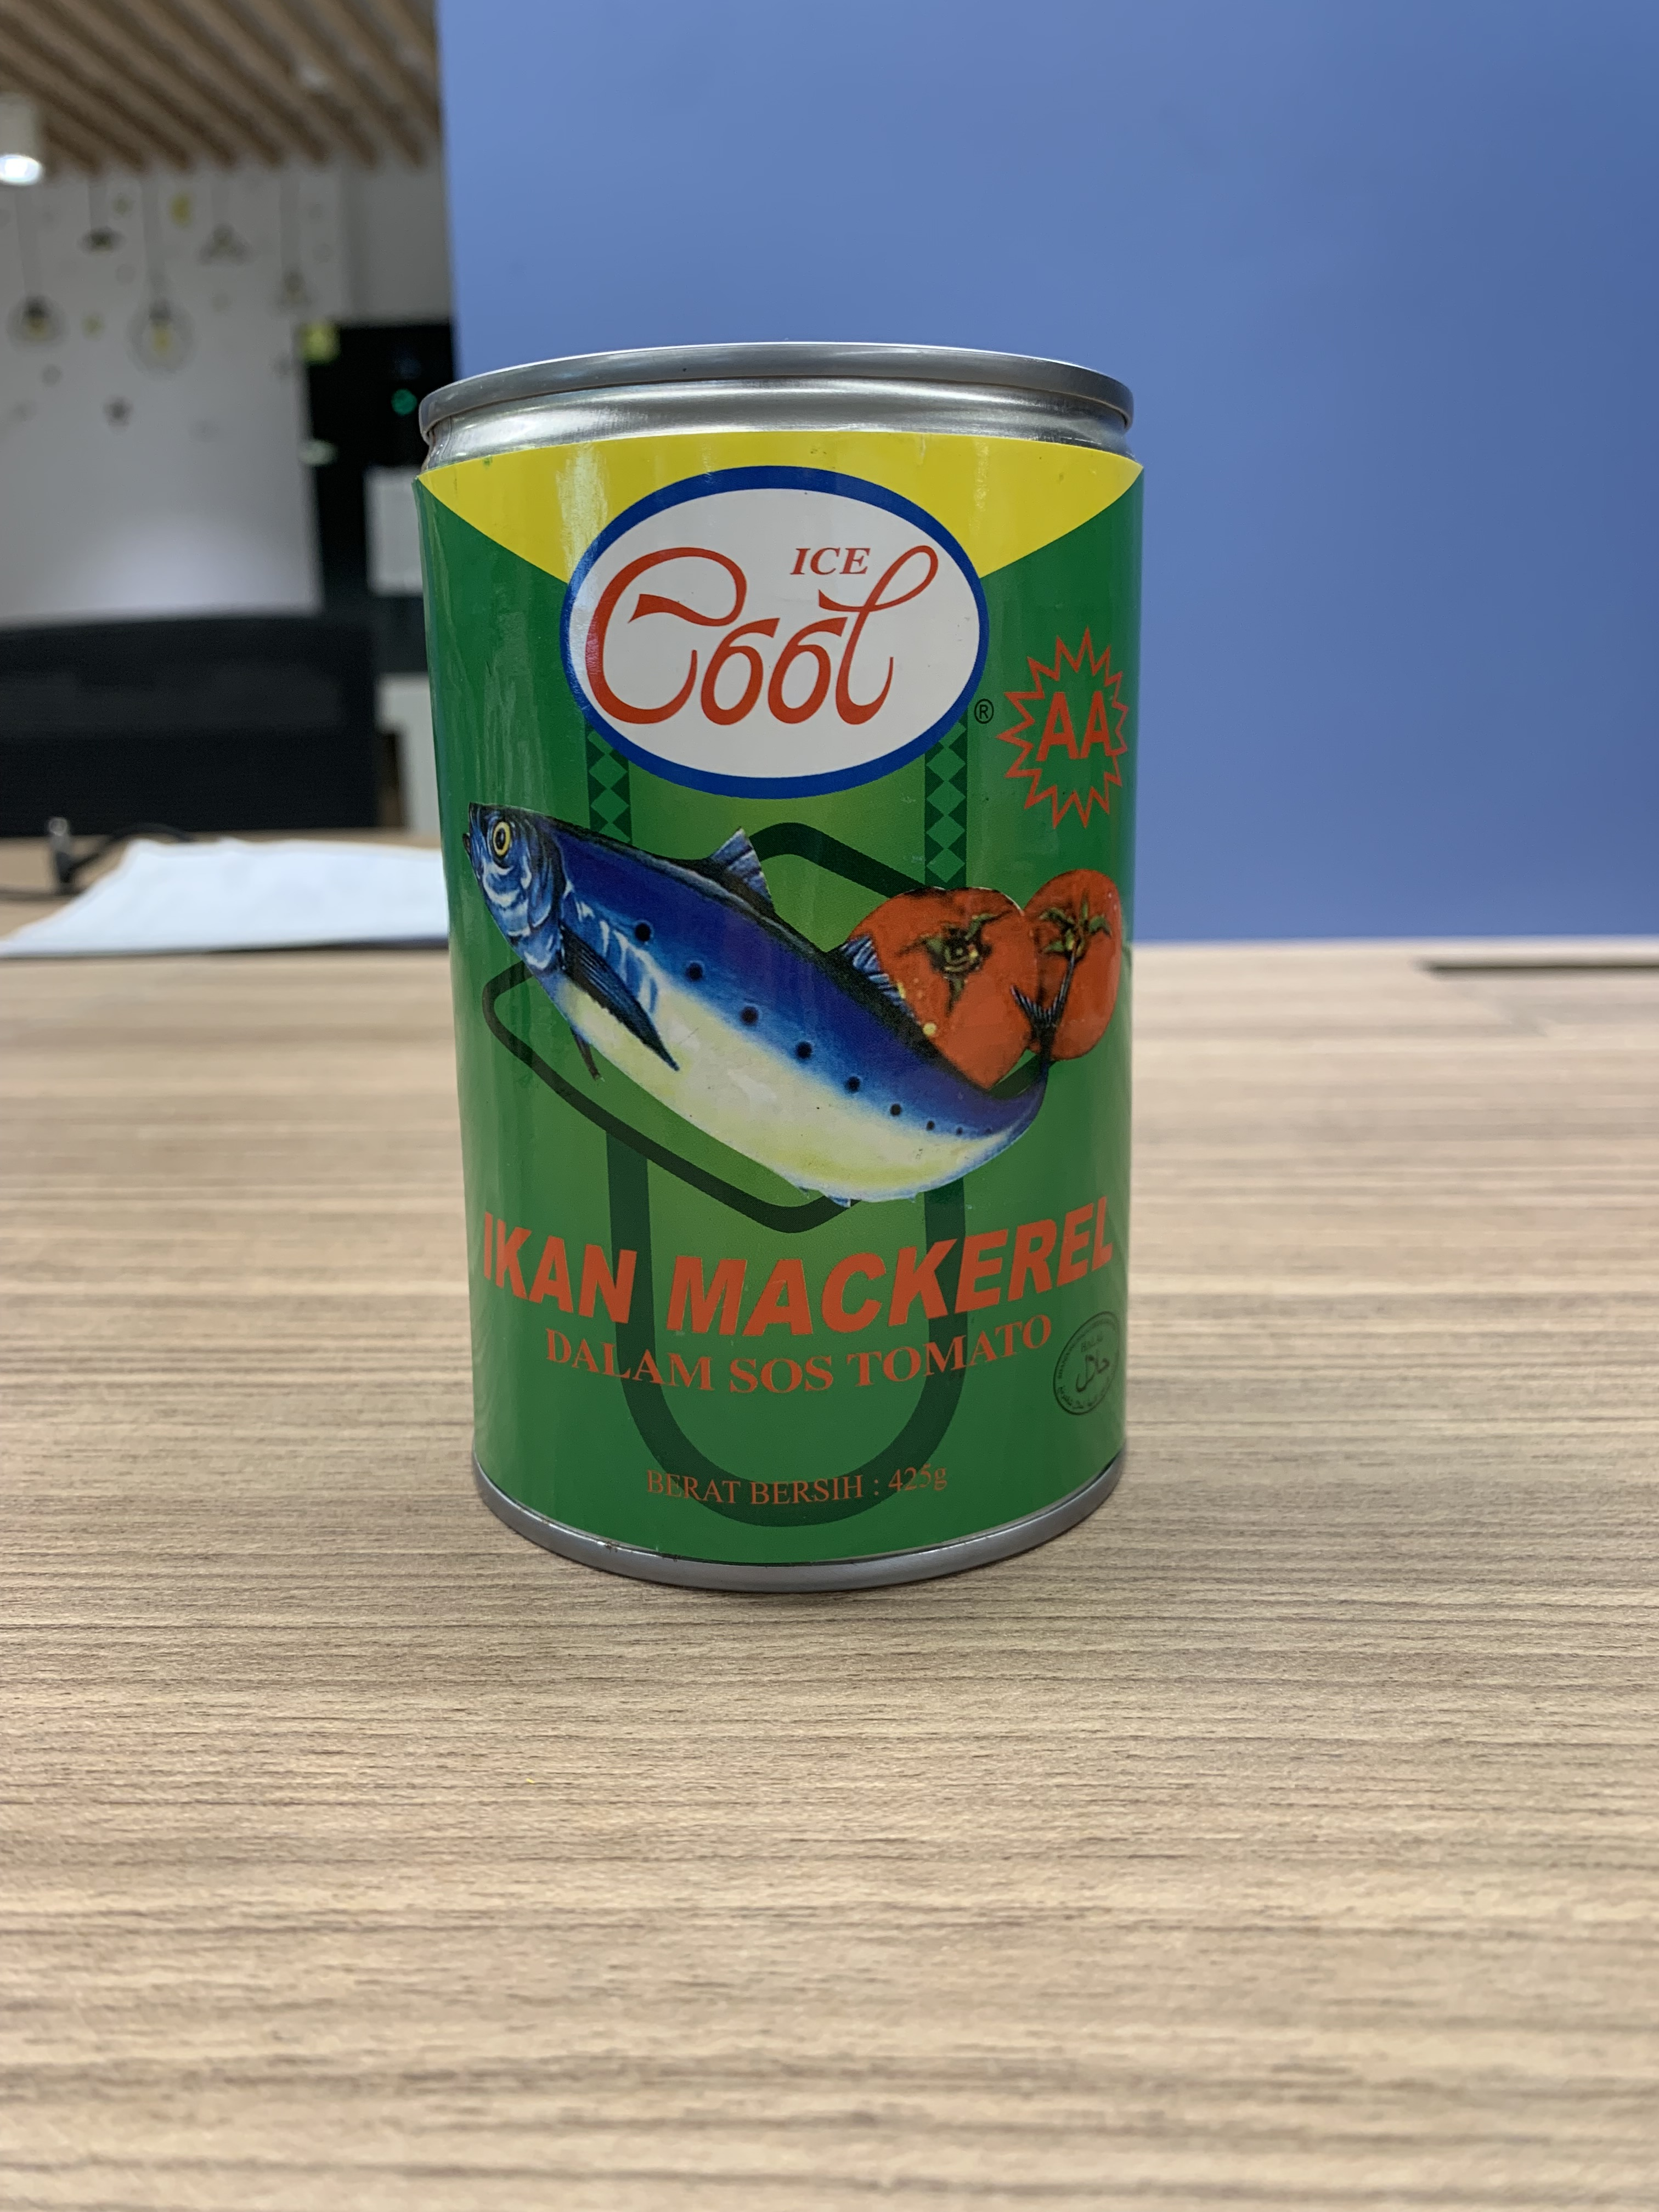sardines_400g-499g: (471, 427, 1122, 1531)
